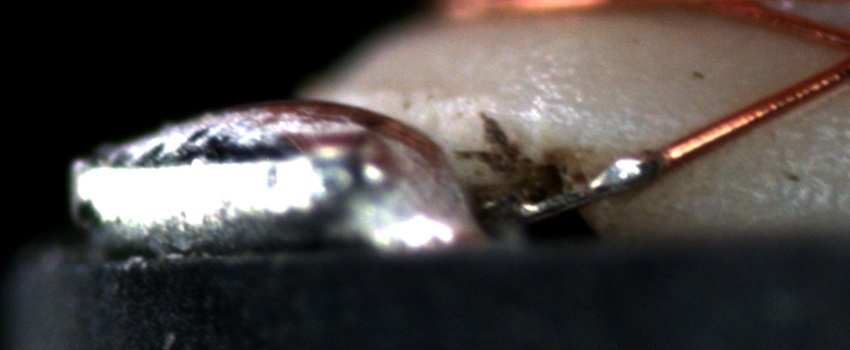DL: (731, 101, 849, 147)
TB: (589, 145, 667, 207)
TS: (509, 153, 664, 221)
TTCW: (508, 129, 716, 225)
